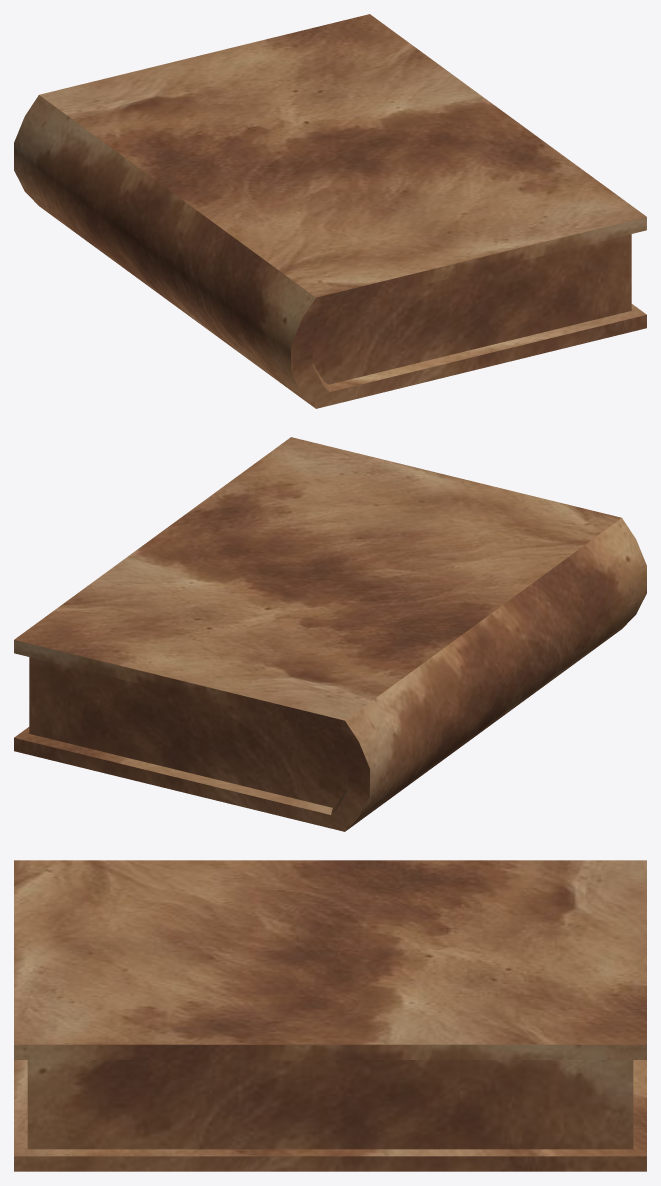
File: tr_book_red.glb
3 renders of one model, top to bottom at view 1: azimuth 30°, elevation 25°; view 2: azimuth 150°, elevation 25°; view 3: azimuth 270°, elevation 25°, orthographic. The views are drawn at different scales.
Parts seen in each view (by area): view 1: model; view 2: model; view 3: model.
Boxes of the visible parts, box(x1,y1,x2,y2) form: model: box(14, 14, 646, 408); model: box(14, 437, 646, 831); model: box(14, 860, 646, 1171).
Bounding box in the file's own units: 0.2129 × 0.0636 × 0.2871.
1 material, 1 textured.
